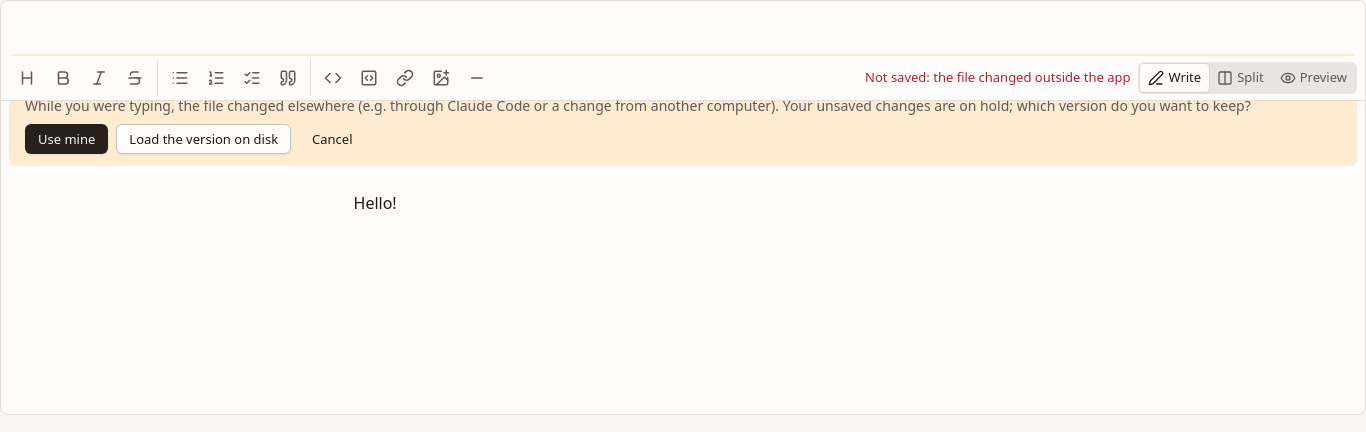
it: MarkdownDoc › when the file changes on disk while typing is unsaved › "Load the version on disk" drops the unsaved typing and shows the file
The image size is (1366, 432).
Step 1. Click the button "Load the version on disk" → x=204, y=139, box [116,124,291,154]
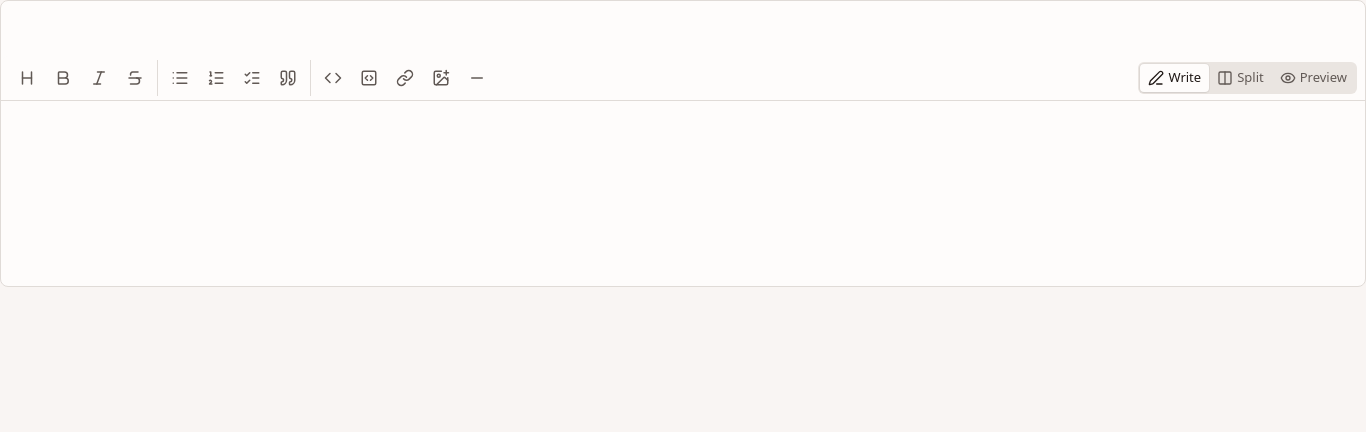
Check: the text box labelled "Changed by Claude Code" is shown, box [354,64,542,86]
Check: the message "Not saved: the file changed outside the app" is gone
